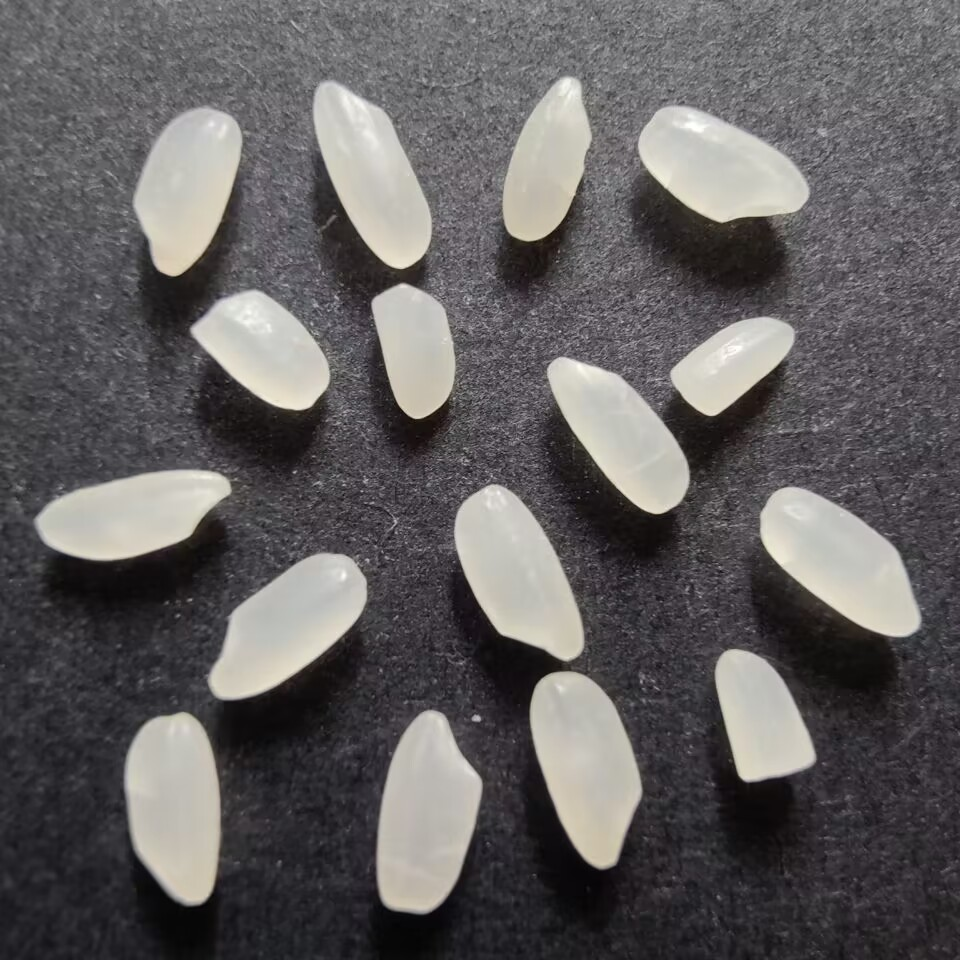broken: (186, 284, 332, 414), (710, 645, 821, 787), (667, 312, 798, 421), (366, 283, 459, 424)
rice: (755, 484, 924, 639), (206, 551, 372, 707), (540, 352, 694, 517), (528, 665, 648, 876), (309, 78, 437, 270), (450, 482, 584, 665), (373, 705, 486, 916), (117, 709, 227, 910), (635, 104, 814, 227), (130, 102, 245, 283), (31, 464, 233, 563), (499, 70, 594, 243)
